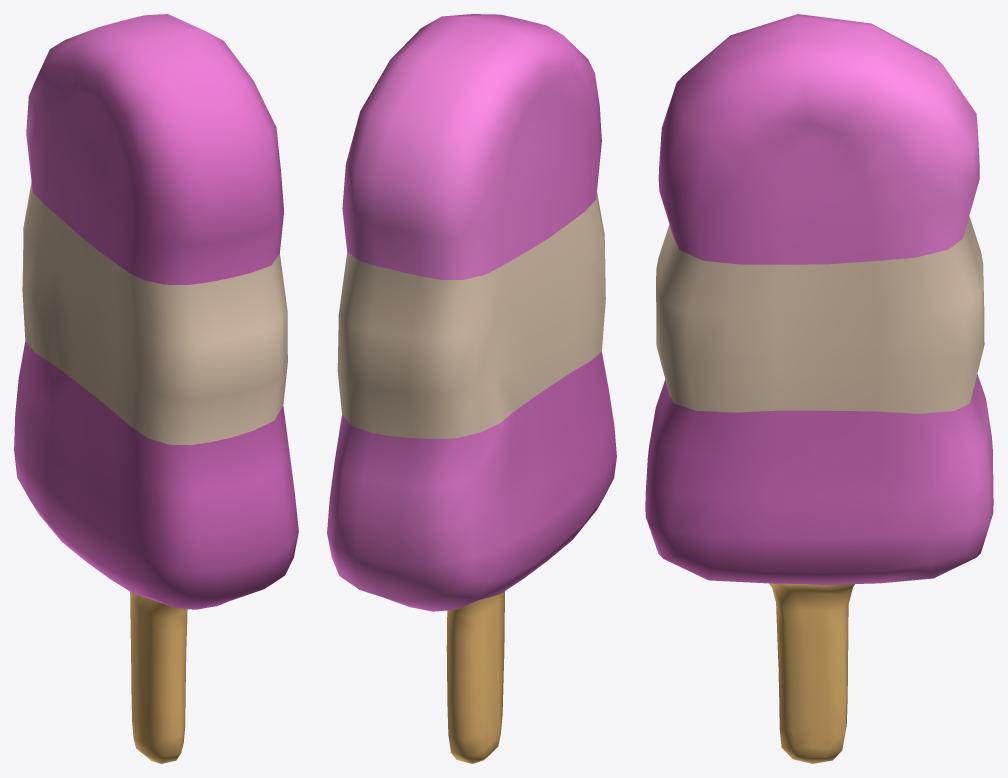
The model's file is IceCream_0001_0028.fbx.
3 renders of one model, left to right at view 1: azimuth 30°, elevation 25°; view 2: azimuth 150°, elevation 25°; view 3: azimuth 270°, elevation 25°, orthographic.
Parts seen in each view (by area): view 1: Ice_0001_0028; view 2: Ice_0001_0028; view 3: Ice_0001_0028.
Part boxes in pixels (x1,y1,x2,y2): Ice_0001_0028: [14, 14, 298, 763]; Ice_0001_0028: [327, 14, 616, 763]; Ice_0001_0028: [645, 14, 993, 763].
Size of the model in its own units: 0.03 by 0.1378 by 0.0596.
Materials: 1 (1 with a texture image).
